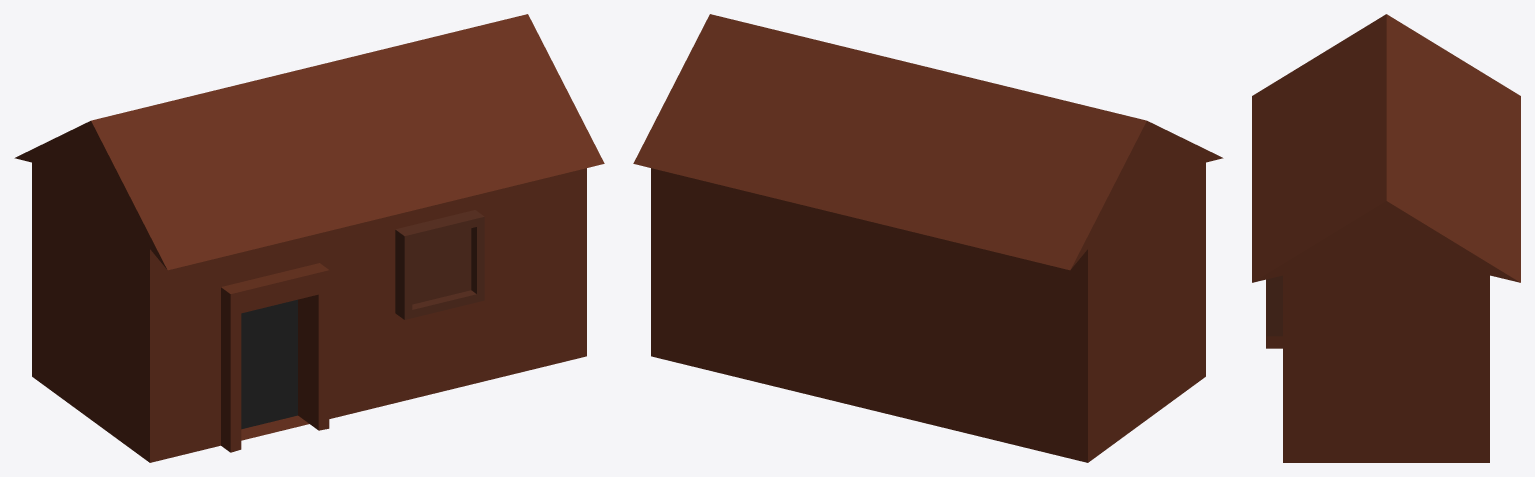
The model's file is House.fbx.
The picture shows the model from 3 angles, left to right: view 1: azimuth 30°, elevation 25°; view 2: azimuth 150°, elevation 25°; view 3: azimuth 270°, elevation 25°; orthographic projection. The views are drawn at different scales.
Parts seen in each view (by area): view 1: Cube, Cube.001; view 2: Cube; view 3: Cube, Cube.001.
Part boxes in pixels (bbox=[...]): Cube: bbox=[14, 14, 604, 462]; Cube.001: bbox=[395, 210, 484, 319]; Cube: bbox=[633, 14, 1223, 462]; Cube: bbox=[1252, 14, 1520, 462]; Cube.001: bbox=[1266, 275, 1282, 336].
Bounding box in the file's own units: 427 × 280 × 260.
